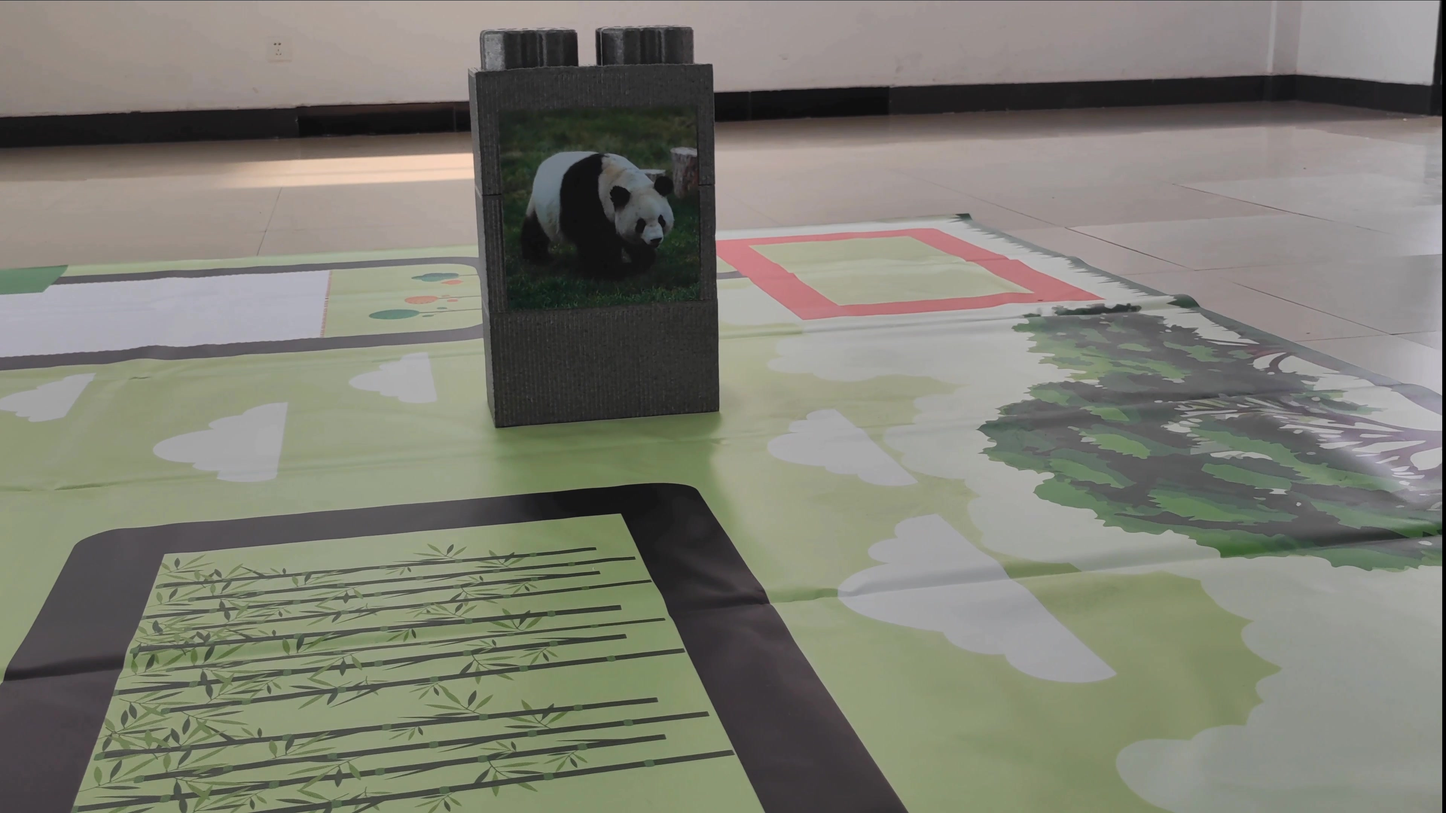panda: (496, 123, 713, 320)
